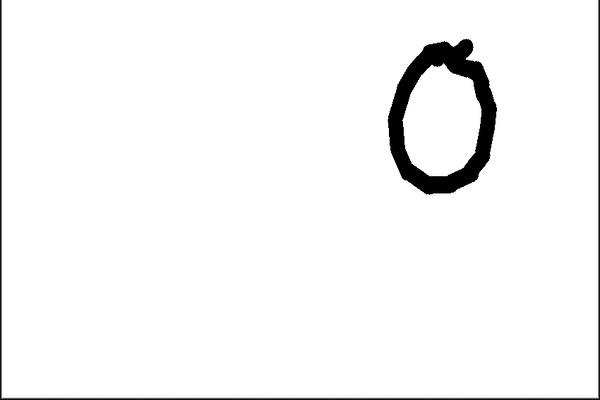O: (375, 27, 505, 201)
